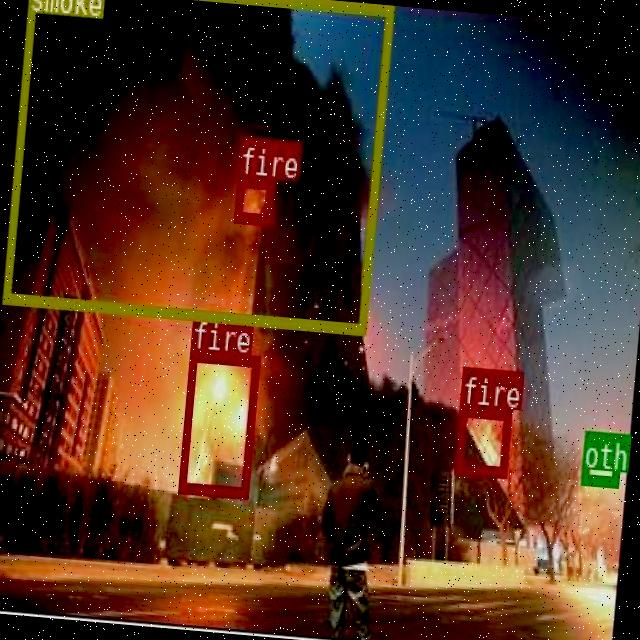fire: (176, 349, 258, 496), (452, 404, 510, 476), (232, 172, 274, 224)
smoke: (1, 0, 392, 333)
